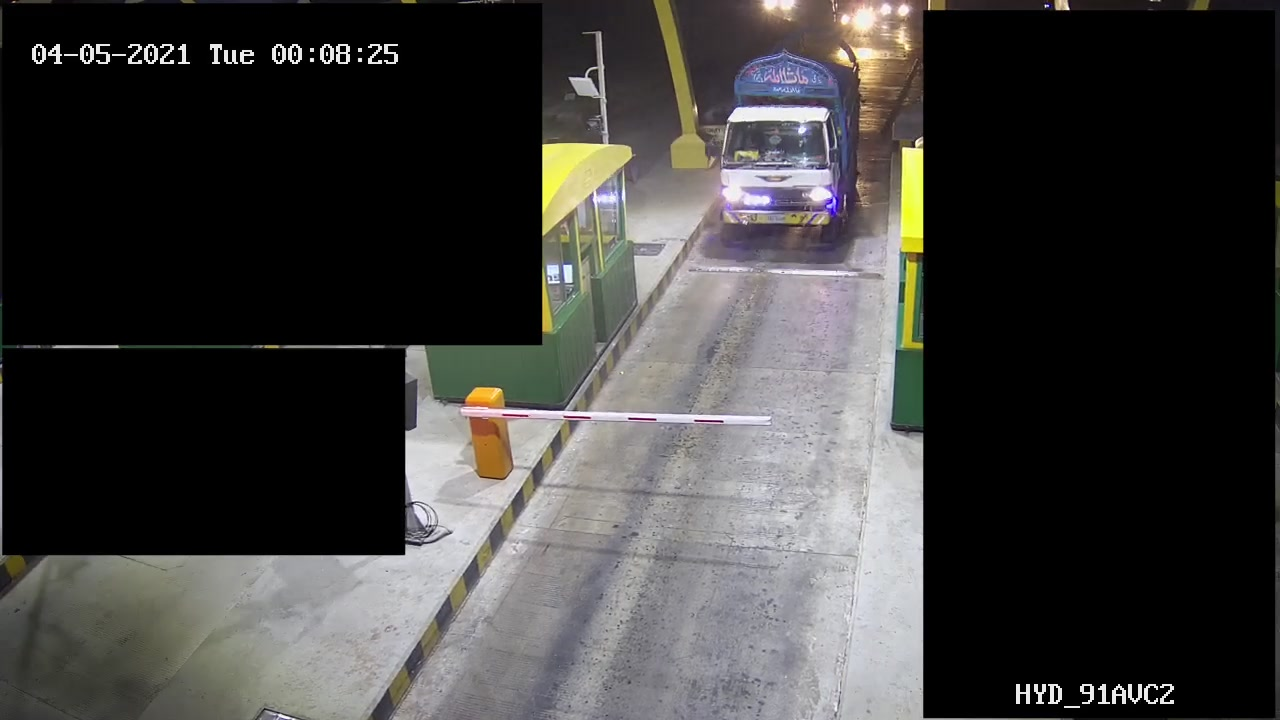F5: (706, 35, 864, 243)
